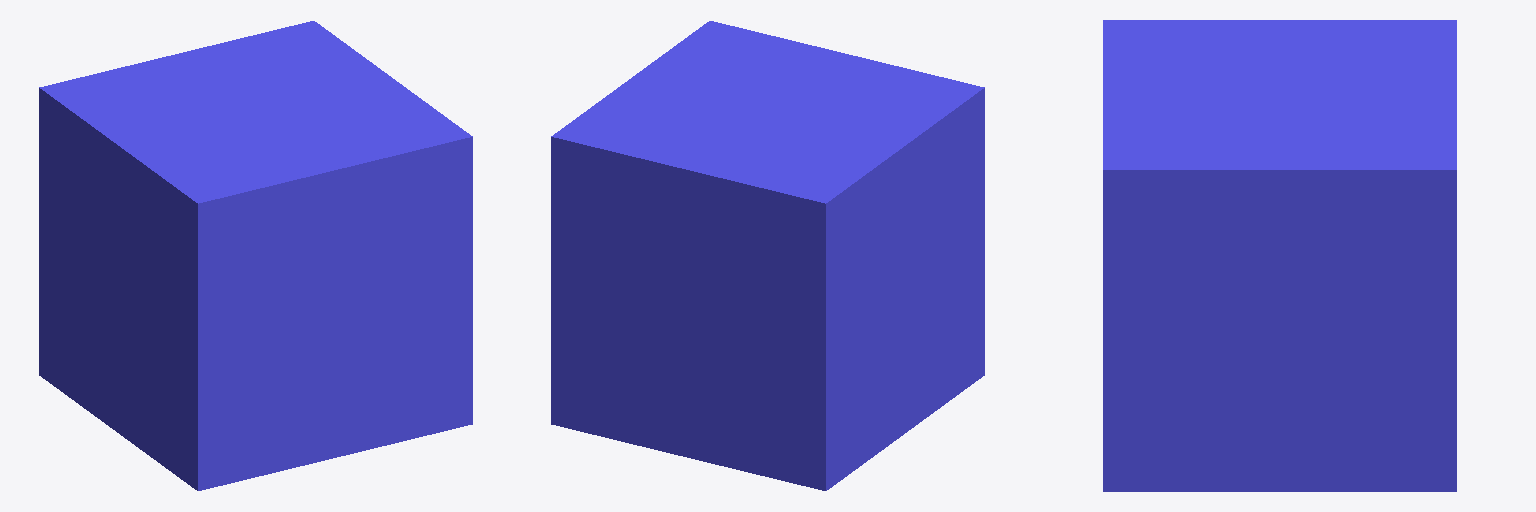
robot.urdf — block:
<robot name="block">
  <link name="block">
    <visual>
      <origin rpy="0 0 0" xyz="0 0 0"/>
      <geometry>
        <box size="0.050 0.050 0.050" />
      </geometry>
      <material name="red">
        <color rgba="0.4 0.4 1.0 1.0"/>
      </material>
    </visual>

    <collision>
      <origin rpy="0 0 0" xyz="0 0 0"/>
      <geometry>
        <box size="0.05 0.05 0.05" />
      </geometry>
    </collision>
<contact>
      <lateral_friction value="1.0"/>
      <rolling_friction value="0.0001"/>
      <inertia_scaling value="3.0"/>
    </contact>
    <inertial>
      <origin rpy="0 0 0" xyz="0 0 0"/>
       <mass value="1."/>
       <inertia ixx="1" ixy="0" ixz="0" iyy="1" iyz="0" izz="1"/>
    </inertial>
  </link>
</robot>

--- What the picture shows (computed from the rendered views, not written in the file) ---
3 views of the same robot in one strip: view 1: azimuth 30°, elevation 25°; view 2: azimuth 150°, elevation 25°; view 3: azimuth 270°, elevation 25° (orthographic).
Model block with 1 links and 0 joints (none), rooted at block, posed all joints at 0.
Visible links, largest first — view 1: block; view 2: block; view 3: block.
Link boxes in pixels (left/top/right/bottom): block: left=39, top=21, right=472, bottom=490; block: left=551, top=21, right=984, bottom=490; block: left=1103, top=20, right=1456, bottom=491.
Bounding box of the posed robot: 0.05 × 0.05 × 0.05 m (x, y, z).
Geometry: primitives only (box / cylinder / sphere), no mesh files.